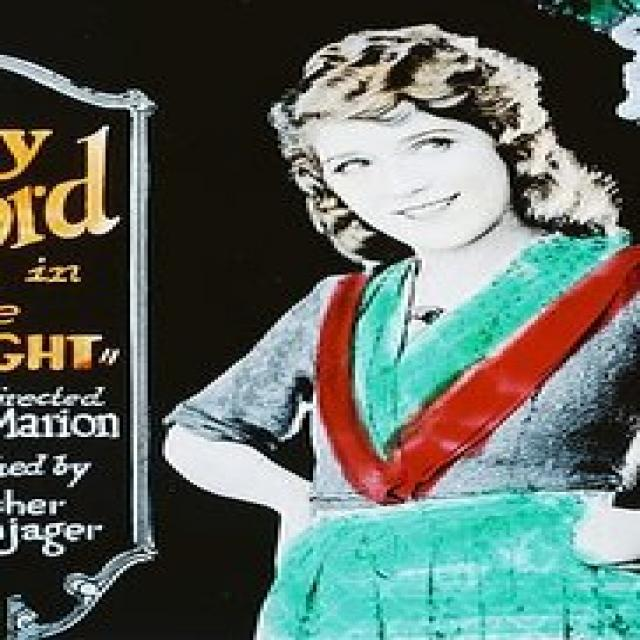movie-judul: (0, 69, 142, 640)
picture: (165, 48, 640, 640)
